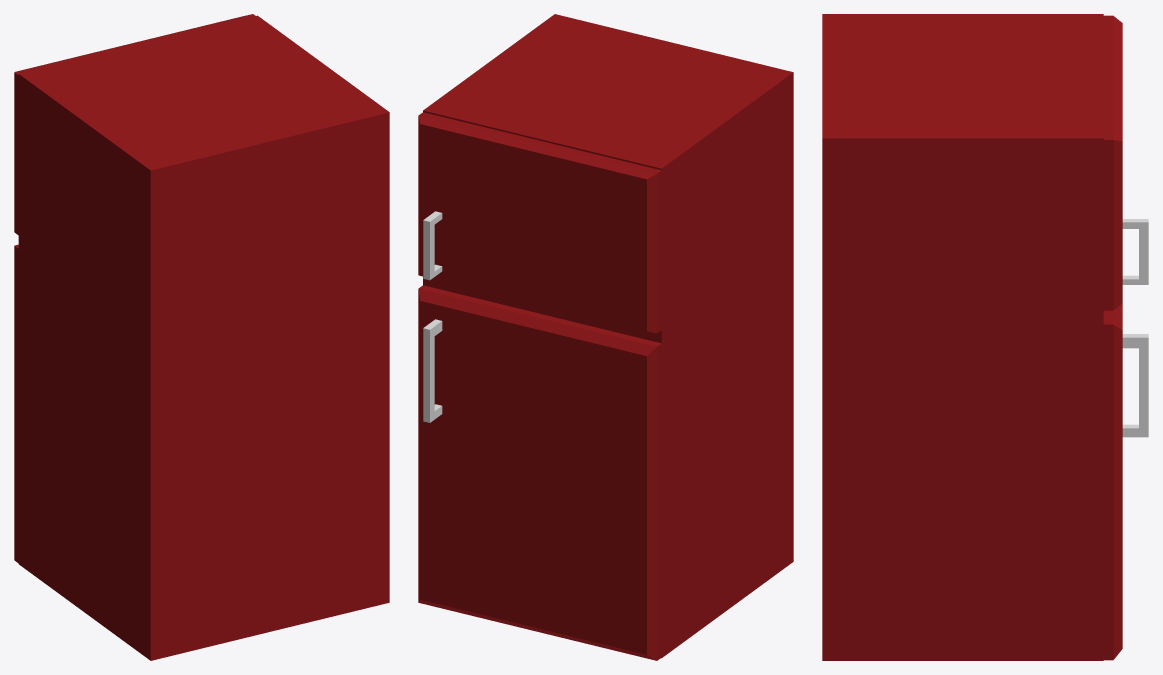
File: Fridge.fbx
3 views of the same model, side by side, from view 1: azimuth 30°, elevation 25°; view 2: azimuth 150°, elevation 25°; view 3: azimuth 270°, elevation 25° (orthographic). The views are drawn at different scales.
Parts seen in each view (by area): view 1: Cube; view 2: Cube; view 3: Cube.
Part boxes in pixels (<box>): Cube: <box>14,14,389,660</box>; Cube: <box>418,14,793,660</box>; Cube: <box>822,14,1148,660</box>.
Size of the model in its own units: 159 by 312 by 176.
